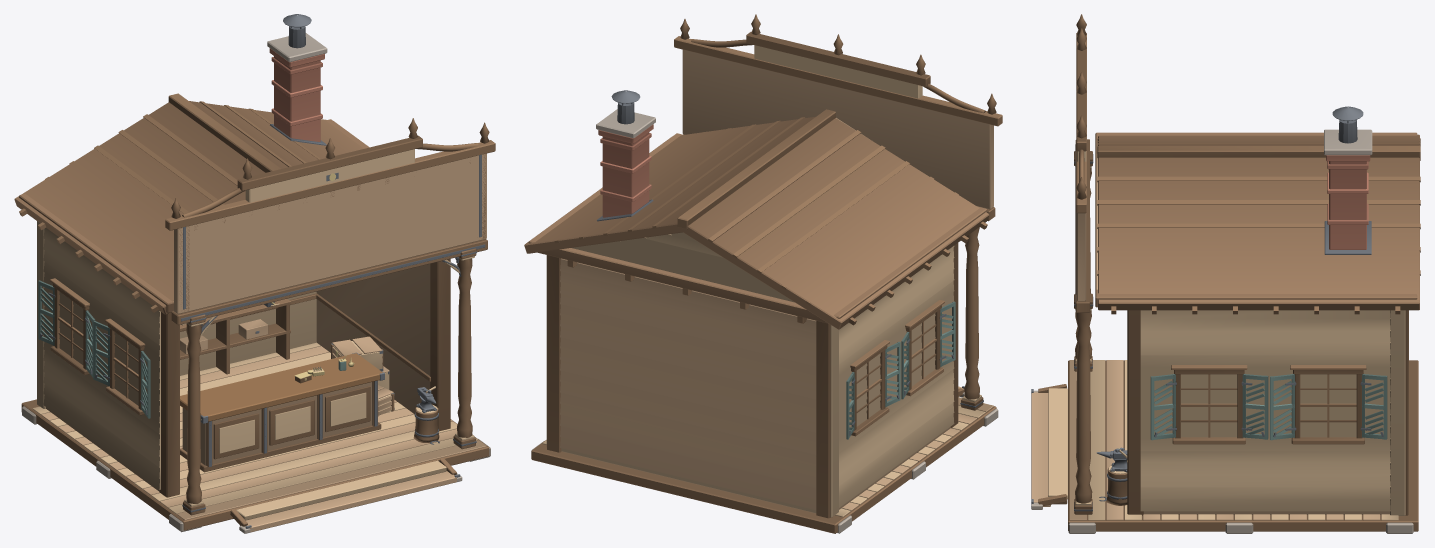
The model's file is gunsmith.glb.
3 renders of one model, left to right at view 1: azimuth 30°, elevation 25°; view 2: azimuth 150°, elevation 25°; view 3: azimuth 270°, elevation 25°, orthographic. The views are drawn at different scales.
Visible parts, largest first — view 1: GunsmithArchitecture; view 2: GunsmithArchitecture; view 3: GunsmithArchitecture.
Boxes of the visible parts, x1=… form: GunsmithArchitecture: x1=14, y1=14, x2=495, y2=533; GunsmithArchitecture: x1=524, y1=14, x2=1002, y2=533; GunsmithArchitecture: x1=1031, y1=14, x2=1420, y2=533.
Size of the model in its own units: 6.25 by 6.61 by 5.95.
